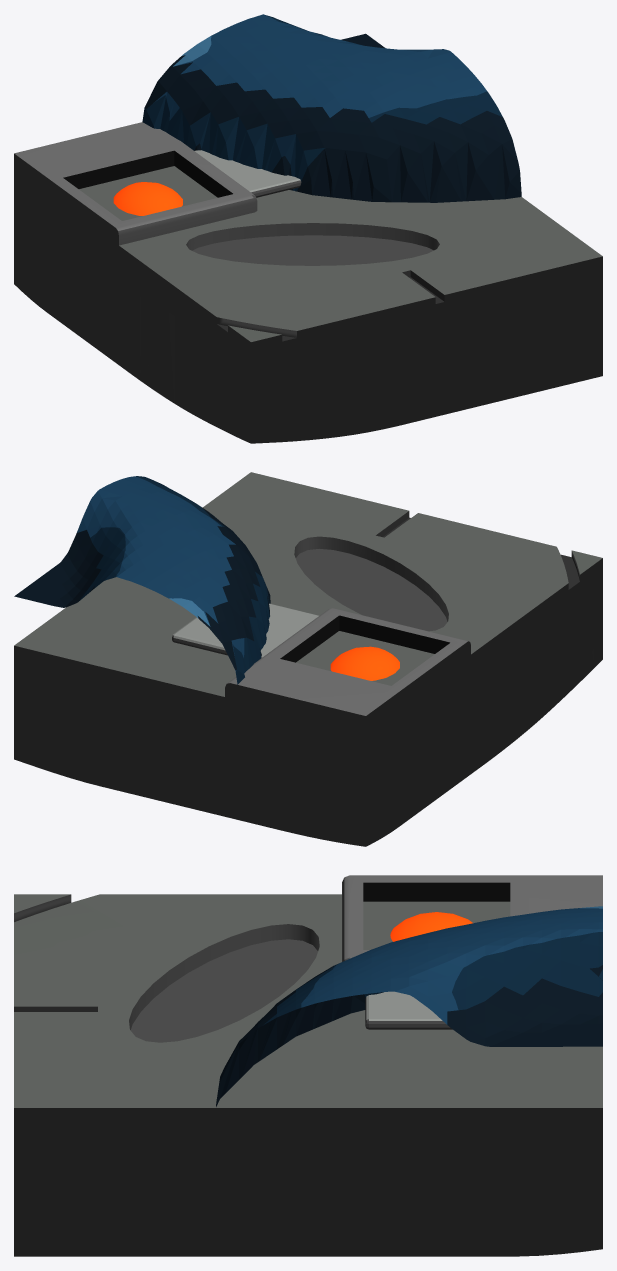
The model's file is camanis_boss_235.glb.
3 renders of one model, top to bottom at view 1: azimuth 30°, elevation 25°; view 2: azimuth 150°, elevation 25°; view 3: azimuth 270°, elevation 25°, orthographic. The views are drawn at different scales.
Parts seen in each view (by area): view 1: camanis_boss_235; view 2: camanis_boss_235; view 3: camanis_boss_235.
Part boxes in pixels (left/top/right/bottom): camanis_boss_235: left=14, top=14, right=602, bottom=443; camanis_boss_235: left=14, top=472, right=602, bottom=846; camanis_boss_235: left=14, top=875, right=602, bottom=1256.
Size of the model in its own units: 24 by 13.91 by 28.
